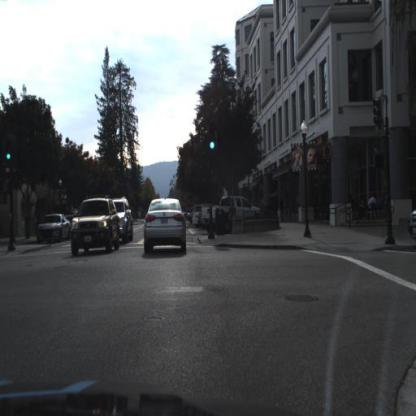car: (71, 200, 119, 258), (143, 197, 186, 259), (204, 195, 260, 230), (37, 213, 68, 245), (118, 197, 134, 244), (193, 205, 203, 226)
pedestrian: (366, 194, 381, 227)
trafficLight-Green: (209, 130, 217, 151)
